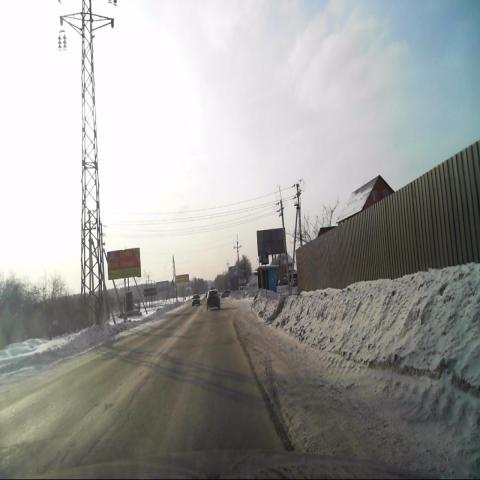5_19_1: (261, 251, 269, 265)
